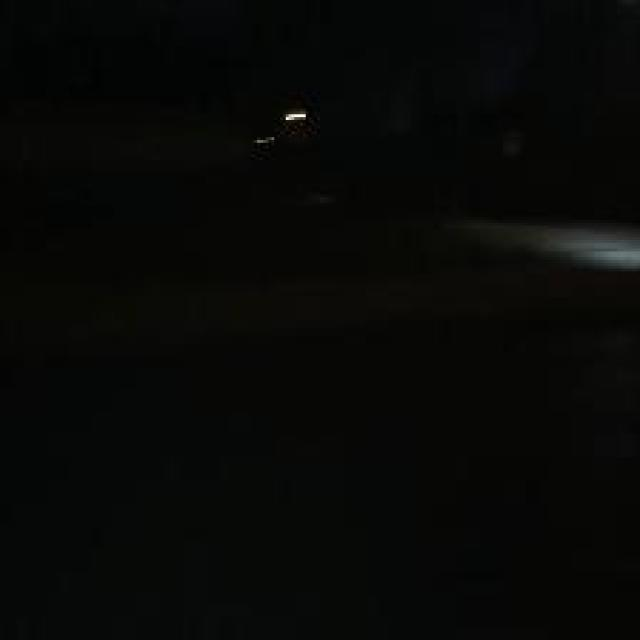other: (274, 97, 320, 128)
